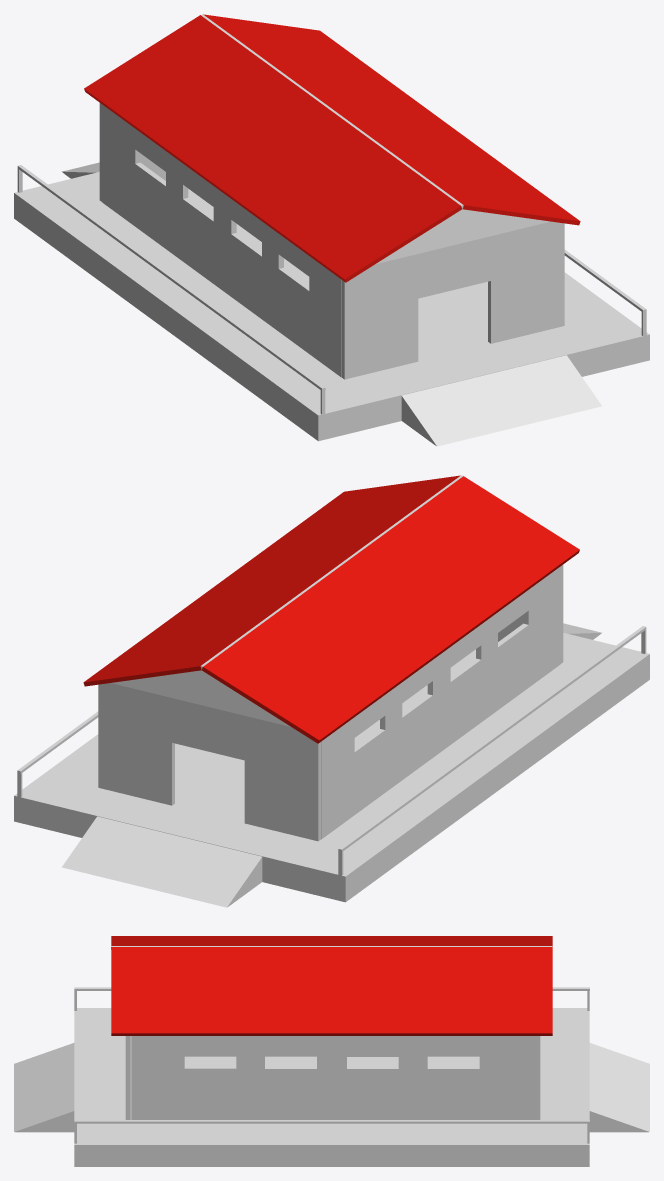
File: warehouse.fbx
The picture shows the model from 3 angles, top to bottom: view 1: azimuth 30°, elevation 25°; view 2: azimuth 150°, elevation 25°; view 3: azimuth 270°, elevation 25°; orthographic projection. The views are drawn at different scales.
Parts seen in each view (by area): view 1: Cube.005, Cube.007, Cube, Cube.002, Cube.004, Cube.008, Cube.015, Cube.006, Cube.003; view 2: Cube.005, Cube.007, Cube.003, Cube, Cube.004, Cube.010, Cube.015, Cube.006, Cube.002; view 3: Cube.004, Cube.007, Cube.001, Cube.008, Cube.010, Cube.005, Cube.009, Cube.002, Cube.003, Cube.006.
Part boxes in pixels (box(x1,y1,x2,y2)): Cube.005: box(84, 15, 461, 282); Cube.007: box(14, 172, 649, 441); Cube: box(102, 105, 341, 376); Cube.002: box(341, 209, 564, 379); Cube.004: box(203, 14, 580, 225); Cube.008: box(401, 355, 601, 446); Cube.015: box(17, 165, 325, 390); Cube.006: box(201, 14, 463, 208); Cube.003: box(99, 103, 165, 201); Cube.005: box(202, 476, 579, 743); Cube.007: box(14, 633, 649, 902); Cube.003: box(98, 670, 321, 841); Cube: box(321, 567, 560, 839); Cube.004: box(83, 475, 460, 686); Cube.010: box(62, 816, 262, 907); Cube.015: box(338, 626, 646, 852); Cube.006: box(200, 475, 463, 669); Cube.002: box(498, 565, 563, 663); Cube.004: box(111, 947, 552, 1035); Cube.007: box(74, 1008, 589, 1166); Cube.001: box(131, 1036, 534, 1119); Cube.008: box(14, 1043, 74, 1132); Cube.010: box(589, 1043, 649, 1132); Cube.005: box(111, 936, 552, 946); Cube.009: box(74, 1120, 589, 1123); Cube.002: box(125, 1036, 130, 1119); Cube.003: box(535, 1036, 540, 1119); Cube.006: box(111, 946, 552, 949).
Bounding box in the file's own units: 1202 × 621 × 2357.
